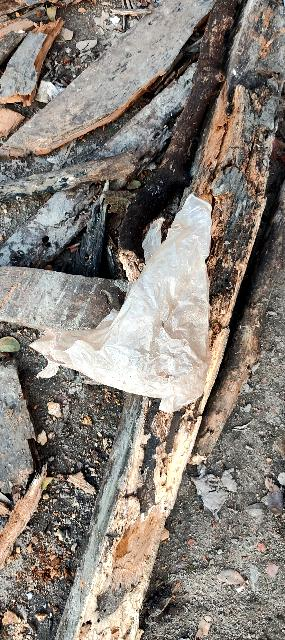polythene: (58, 203, 246, 406)
